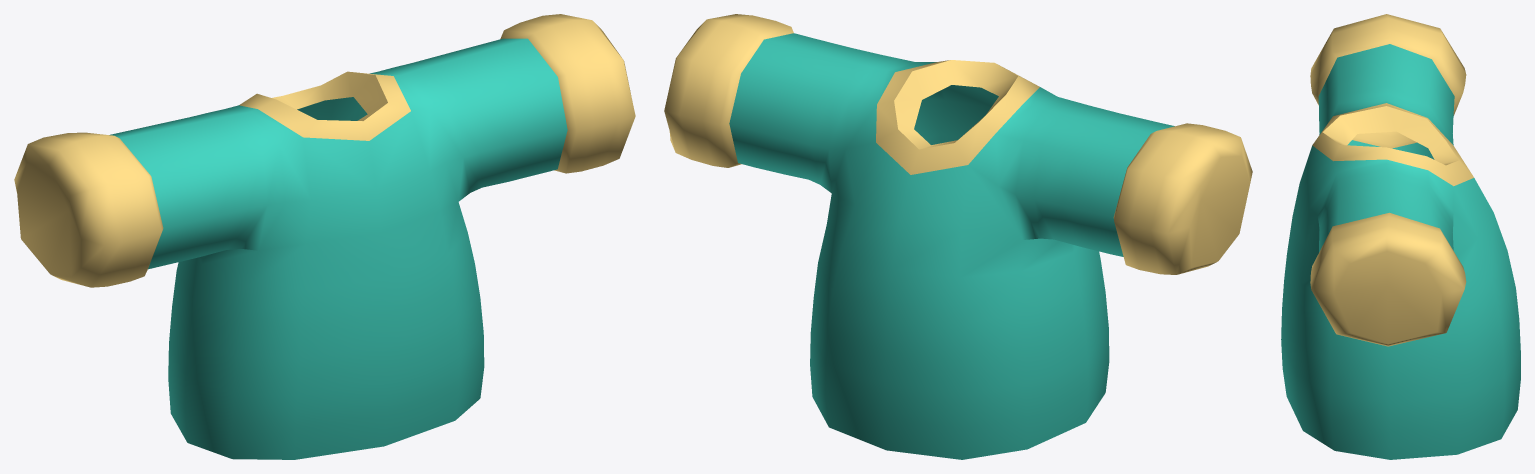
Rendered from Top_10.fbx.
3 renders of one model, left to right at view 1: azimuth 30°, elevation 25°; view 2: azimuth 150°, elevation 25°; view 3: azimuth 270°, elevation 25°, orthographic. The views are drawn at different scales.
Visible parts, largest first — view 1: Top_10; view 2: Top_10; view 3: Top_10.
Part boxes in pixels (left/top/right/bottom): Top_10: left=14, top=14, right=635, bottom=459; Top_10: left=664, top=14, right=1252, bottom=459; Top_10: left=1281, top=14, right=1520, bottom=459.
Size of the model in its own units: 83.07 by 48.32 by 36.49.
